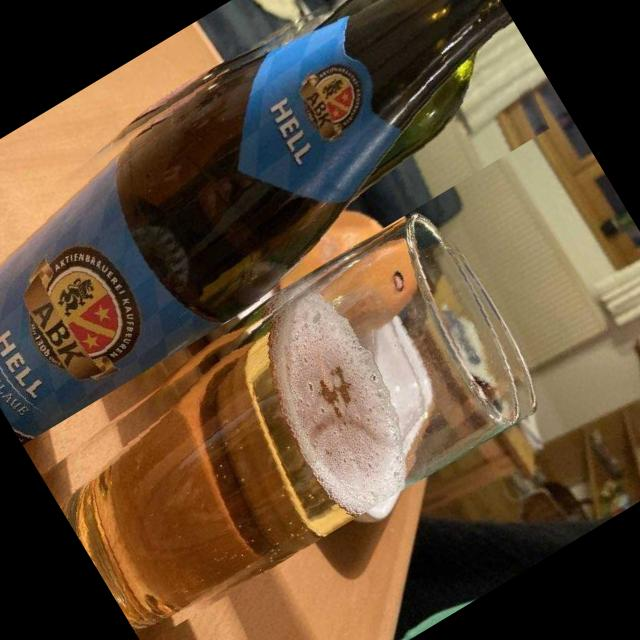Glass: (0, 0, 571, 445), (22, 199, 552, 640)
